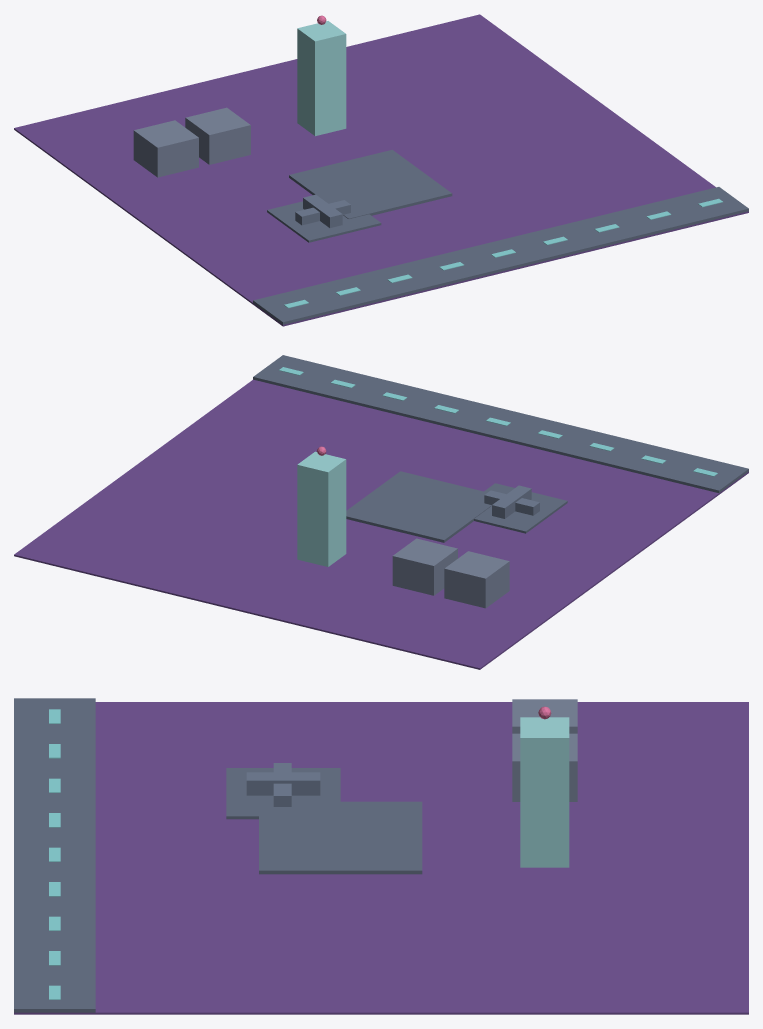
The model's file is stage_05.glb.
3 views of the same model, one above another, from view 1: azimuth 30°, elevation 25°; view 2: azimuth 150°, elevation 25°; view 3: azimuth 270°, elevation 25° (orthographic). The views are drawn at different scales.
Parts seen in each view (by area): view 1: geometry_0; view 2: geometry_0; view 3: geometry_0.
Boxes of the visible parts, left/top/right/bottom form: geometry_0: left=14, top=14, right=748, bottom=326; geometry_0: left=14, top=355, right=748, bottom=669; geometry_0: left=14, top=698, right=748, bottom=1014.
Bounding box in the file's own units: 9 × 2.06 × 9.
